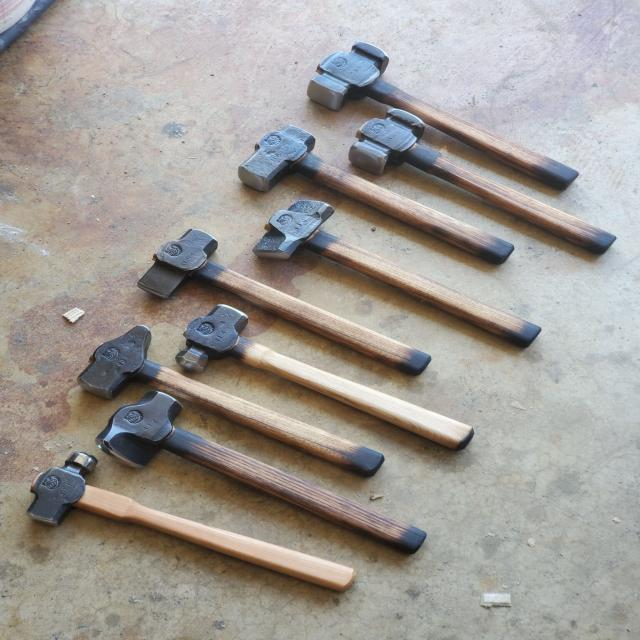hammer: (93, 390, 457, 572), (16, 443, 377, 604), (171, 301, 511, 456), (70, 320, 388, 480), (132, 221, 440, 377), (252, 197, 547, 354), (302, 34, 584, 192), (232, 120, 518, 270), (343, 108, 623, 258)
